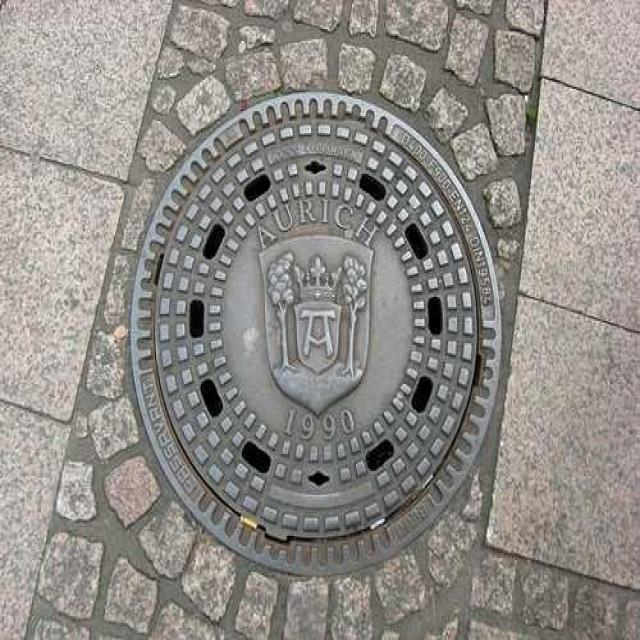manhole: (133, 93, 498, 571)
